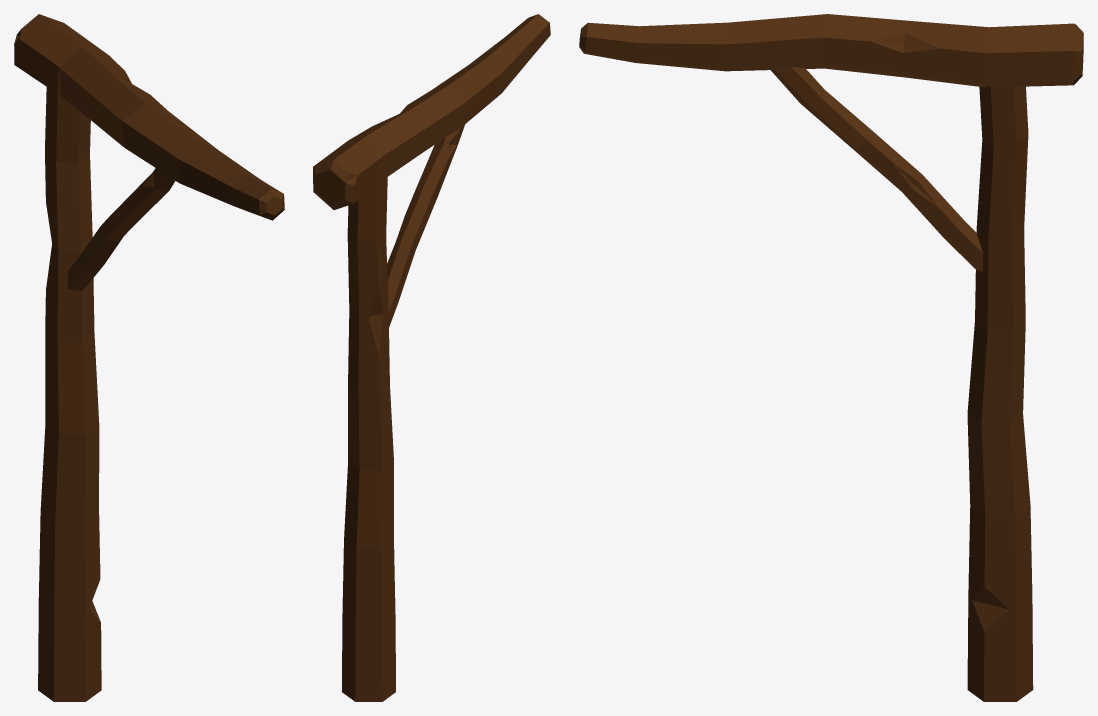
Rendered from pole_1.fbx.
3 views of the same model, side by side, from view 1: azimuth 30°, elevation 25°; view 2: azimuth 150°, elevation 25°; view 3: azimuth 270°, elevation 25° (orthographic). The views are drawn at different scales.
Visible parts, largest first — view 1: pole_1; view 2: pole_1; view 3: pole_1.
Boxes of the visible parts, box(x1,y1,x2,y2) form: pole_1: box(14, 14, 284, 701); pole_1: box(313, 14, 550, 701); pole_1: box(579, 14, 1083, 701).
Bounding box in the file's own units: 0.3631 × 3.61 × 2.46.
